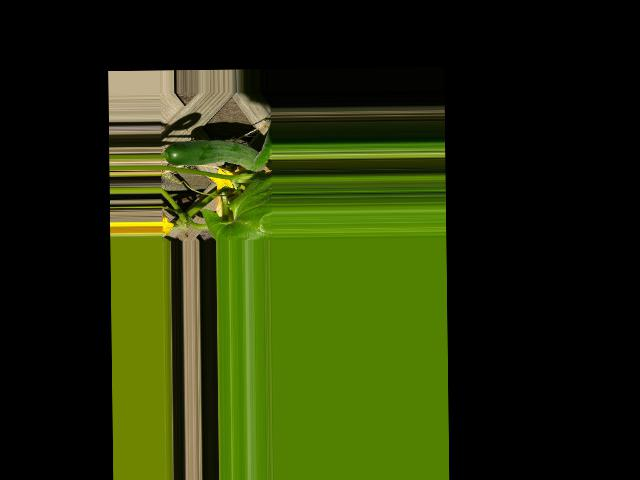cucumber: (165, 138, 271, 172)
